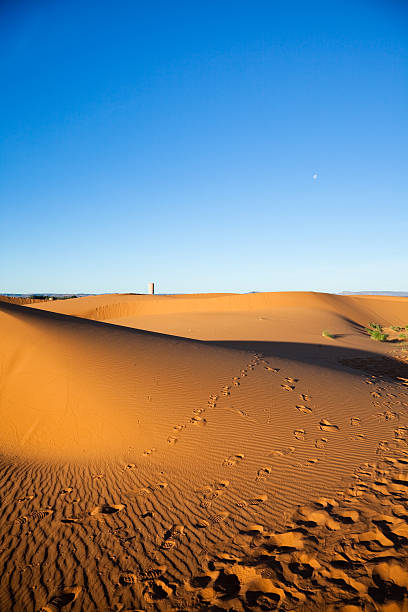human_foot_print: (217, 468, 407, 611), (265, 390, 349, 481), (167, 368, 247, 445), (167, 369, 247, 445), (167, 370, 242, 445), (167, 394, 217, 445), (207, 369, 246, 407), (207, 370, 246, 408), (220, 358, 257, 396), (294, 501, 340, 530), (99, 517, 139, 547), (39, 586, 81, 611), (232, 354, 263, 386), (196, 480, 230, 508), (142, 576, 172, 605), (376, 430, 407, 458), (267, 530, 304, 551), (195, 507, 230, 529), (239, 522, 264, 548), (159, 524, 184, 549), (14, 508, 53, 524), (126, 481, 167, 496), (224, 405, 257, 422), (138, 565, 168, 582), (188, 569, 211, 591), (196, 479, 229, 493), (90, 503, 125, 516), (348, 416, 366, 440), (237, 493, 267, 507), (200, 491, 222, 508), (353, 462, 376, 478), (383, 454, 407, 469), (231, 407, 256, 421), (294, 455, 320, 468), (296, 392, 312, 413), (259, 357, 279, 372), (208, 511, 229, 525), (61, 513, 87, 524), (165, 523, 184, 538), (119, 571, 139, 585), (223, 453, 244, 466), (269, 446, 295, 456), (255, 466, 272, 481), (319, 418, 338, 431), (377, 409, 398, 420), (394, 425, 407, 442), (281, 377, 298, 390), (147, 481, 167, 492), (298, 457, 318, 467), (376, 440, 390, 454), (159, 538, 176, 549), (247, 355, 260, 369), (190, 414, 206, 425), (213, 479, 229, 490), (348, 432, 367, 441), (314, 437, 328, 449), (194, 518, 209, 529), (264, 362, 279, 372), (293, 428, 305, 440), (207, 394, 217, 408), (17, 494, 34, 502), (139, 510, 154, 519), (296, 404, 311, 413), (59, 486, 72, 496), (172, 424, 185, 433), (364, 375, 376, 384), (91, 473, 104, 481), (143, 447, 156, 455), (350, 416, 360, 426), (253, 352, 263, 362), (221, 385, 230, 396), (396, 376, 407, 385), (124, 463, 137, 470), (281, 383, 294, 390), (167, 436, 177, 445), (299, 393, 310, 401), (192, 407, 204, 414), (306, 457, 318, 464), (285, 377, 298, 383), (232, 376, 239, 386), (371, 391, 380, 397), (386, 392, 396, 397), (240, 369, 247, 376), (364, 379, 373, 384), (247, 364, 254, 370)
